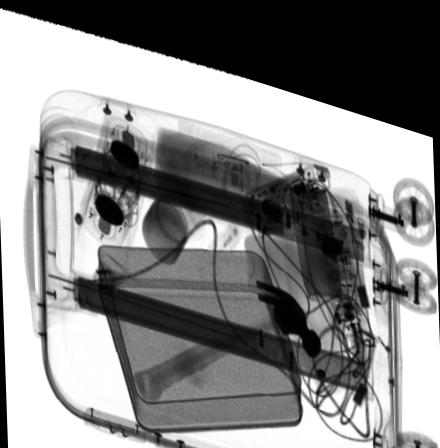Hammer: (133, 263, 321, 394)
